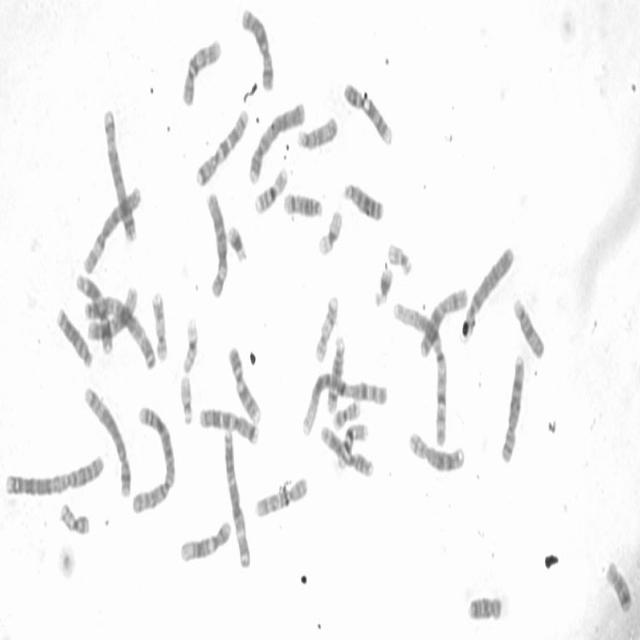A1: (390, 296, 448, 449), (300, 370, 388, 438)
A2: (128, 402, 176, 516), (1, 449, 106, 500)
A3: (84, 293, 156, 372), (222, 424, 251, 568)
B4: (246, 96, 306, 186), (461, 242, 515, 341)
B5: (81, 380, 133, 499), (101, 104, 138, 244)
C10: (179, 34, 223, 108), (253, 474, 308, 520)
C11: (73, 269, 114, 356), (318, 422, 374, 480)
C12: (86, 283, 139, 341), (178, 518, 232, 563)
C6: (80, 182, 142, 276), (204, 187, 229, 300)
C7: (193, 106, 249, 189), (197, 402, 259, 447)
C8: (499, 351, 525, 465), (408, 430, 465, 474)
C9: (342, 78, 394, 147), (226, 342, 263, 426)
D13: (54, 304, 93, 369), (342, 178, 386, 224)
D14: (324, 331, 346, 415), (282, 188, 324, 219)
D15: (512, 294, 546, 361), (295, 111, 339, 152)
E16: (252, 161, 289, 216), (334, 419, 368, 472)
E17: (313, 292, 339, 364), (149, 286, 169, 364)
E18: (604, 556, 634, 614), (466, 590, 504, 623)
F19: (316, 206, 343, 258), (180, 313, 200, 375)
F20: (57, 498, 91, 537), (332, 396, 360, 431)
G21: (372, 262, 394, 309), (226, 220, 248, 264)
G22: (386, 238, 412, 277), (178, 370, 195, 427)
X: (417, 282, 469, 359), (240, 4, 275, 92)
